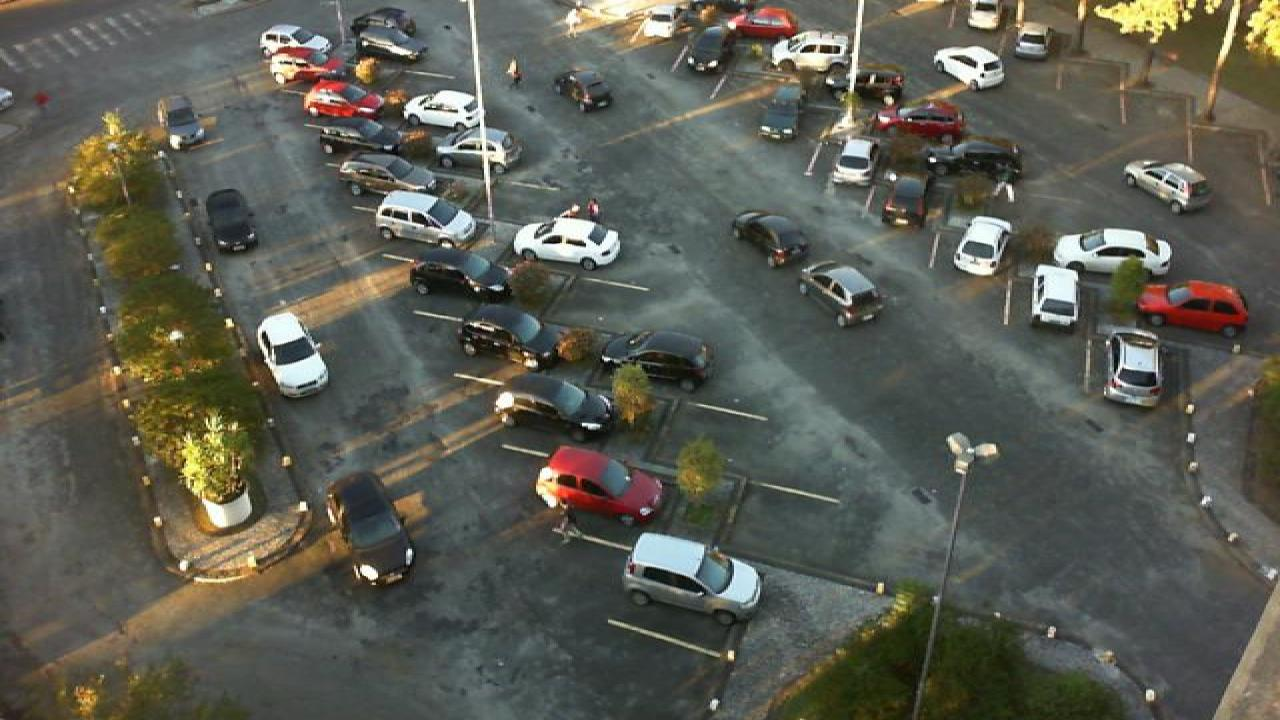Car: (620, 531, 764, 629), (534, 444, 682, 530), (324, 470, 416, 588), (490, 373, 616, 444), (600, 331, 714, 395), (1136, 279, 1252, 341), (456, 303, 562, 370), (370, 190, 480, 251), (510, 216, 624, 273), (406, 248, 518, 306), (256, 314, 332, 399), (796, 260, 888, 328), (1052, 227, 1172, 279), (1122, 159, 1214, 214), (732, 210, 812, 270), (338, 152, 440, 199), (1104, 329, 1164, 408), (924, 138, 1026, 182), (306, 114, 404, 158), (298, 80, 394, 124), (762, 31, 854, 76), (434, 126, 524, 171), (1030, 263, 1086, 333), (952, 215, 1014, 278), (202, 188, 262, 253), (870, 104, 968, 142), (350, 22, 436, 64), (400, 88, 480, 132), (934, 45, 1006, 92), (266, 47, 344, 87), (256, 22, 338, 60), (832, 64, 908, 105), (758, 86, 812, 142), (552, 66, 614, 112), (676, 25, 732, 74), (156, 94, 204, 150), (880, 176, 928, 231), (830, 136, 878, 187), (728, 7, 800, 37), (348, 6, 416, 36), (1016, 22, 1052, 60), (964, 0, 1008, 30)
